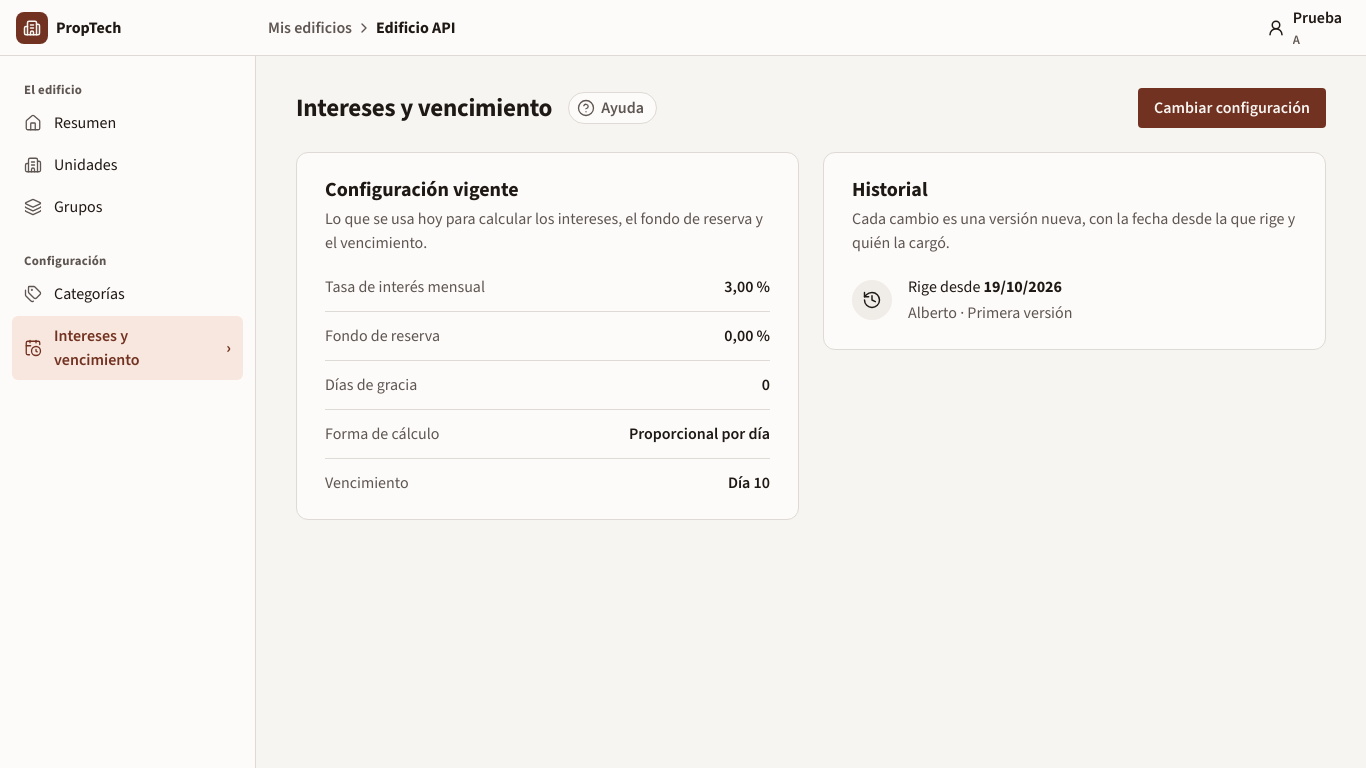
Test: PantallaConfiguracion › Auditor fila 6: el ejemplo de ayuda explica la vigencia de versiones guardadas
Click the button "Ayuda" at (613,108), box top-left (568, 92), bottom-right (657, 124)
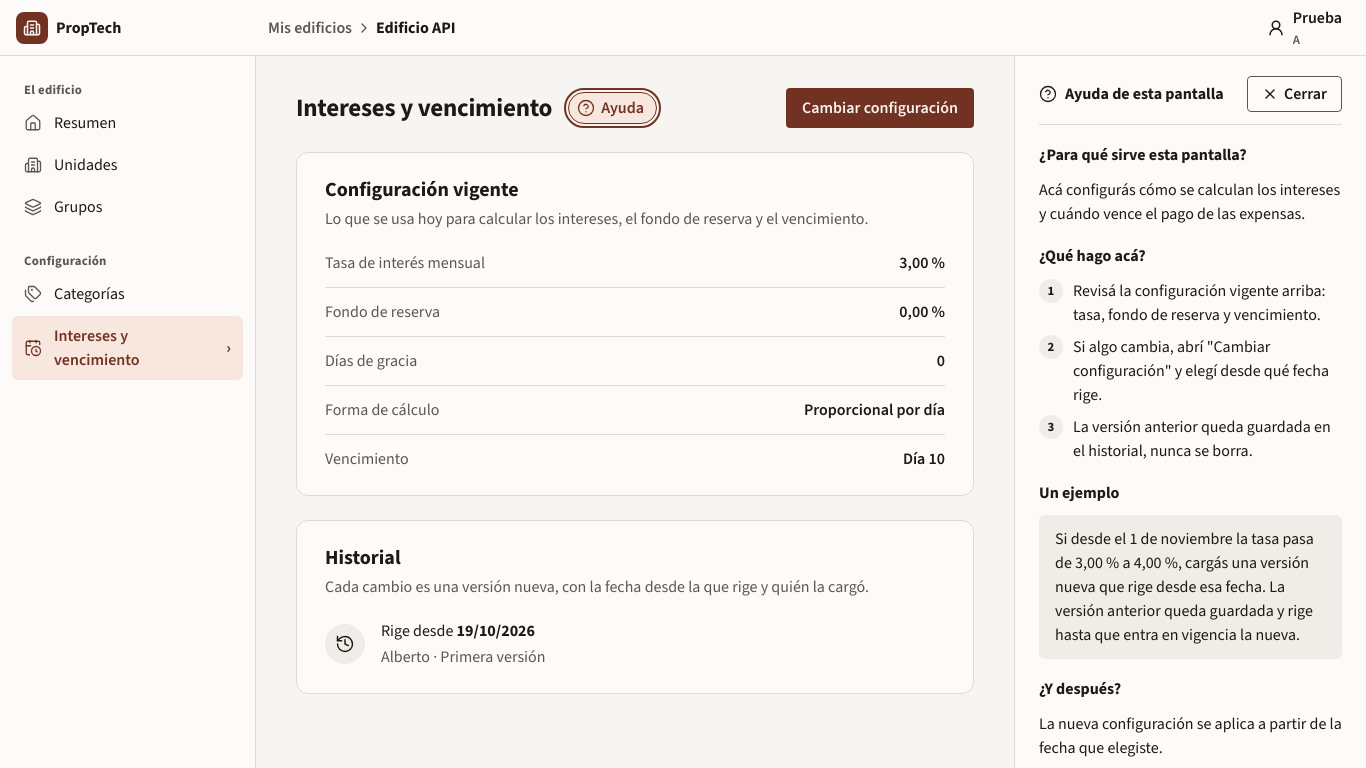
Now the text "La versión anterior queda guardada y rige hasta que entra en vigencia la nueva." is shown, box top-left (1055, 528), bottom-right (1314, 645)
